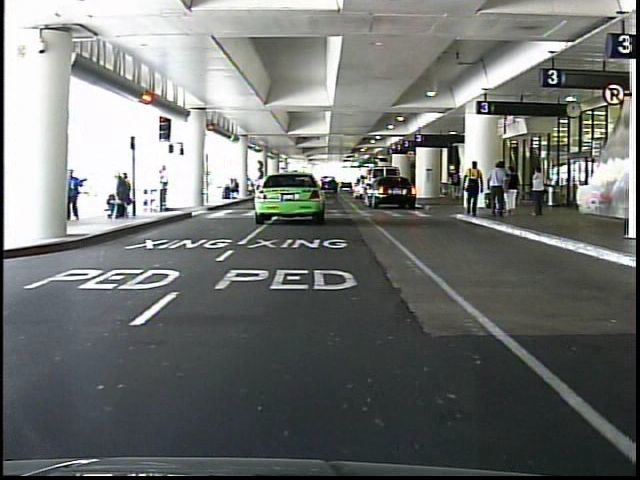person: (528, 163, 555, 226), (461, 160, 484, 225), (485, 162, 507, 220), (154, 165, 176, 218), (504, 164, 520, 220), (449, 167, 463, 204)
